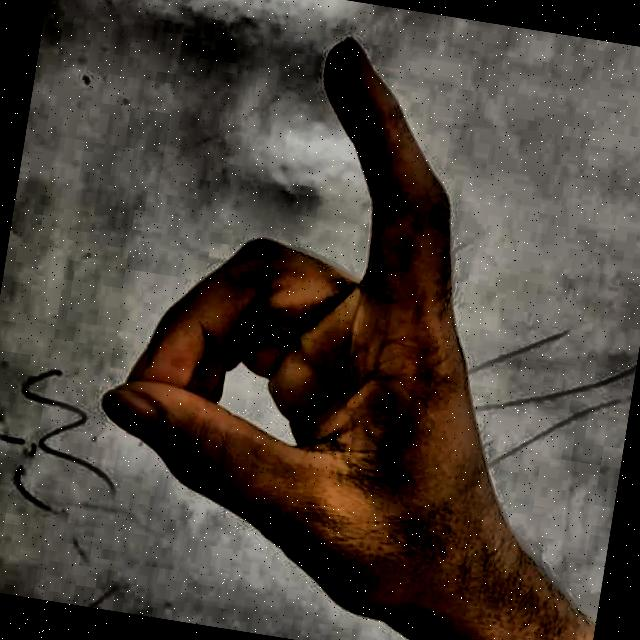Dha: (46, 0, 583, 640)
